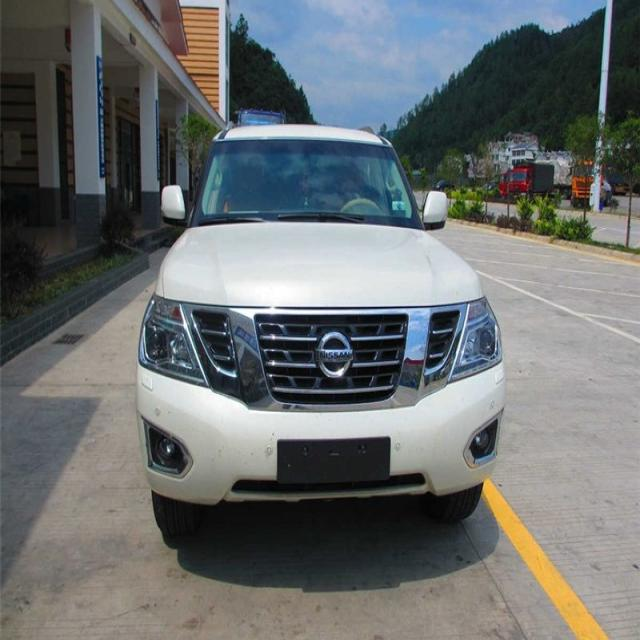front_bumper: (133, 360, 508, 506)
front_glass: (190, 140, 422, 228)
front_left_side_light: (446, 296, 503, 386)
front_left_side_mirror: (420, 187, 450, 230)
front_right_side_light: (136, 289, 210, 392)
front_right_side_mirror: (158, 184, 189, 231)
